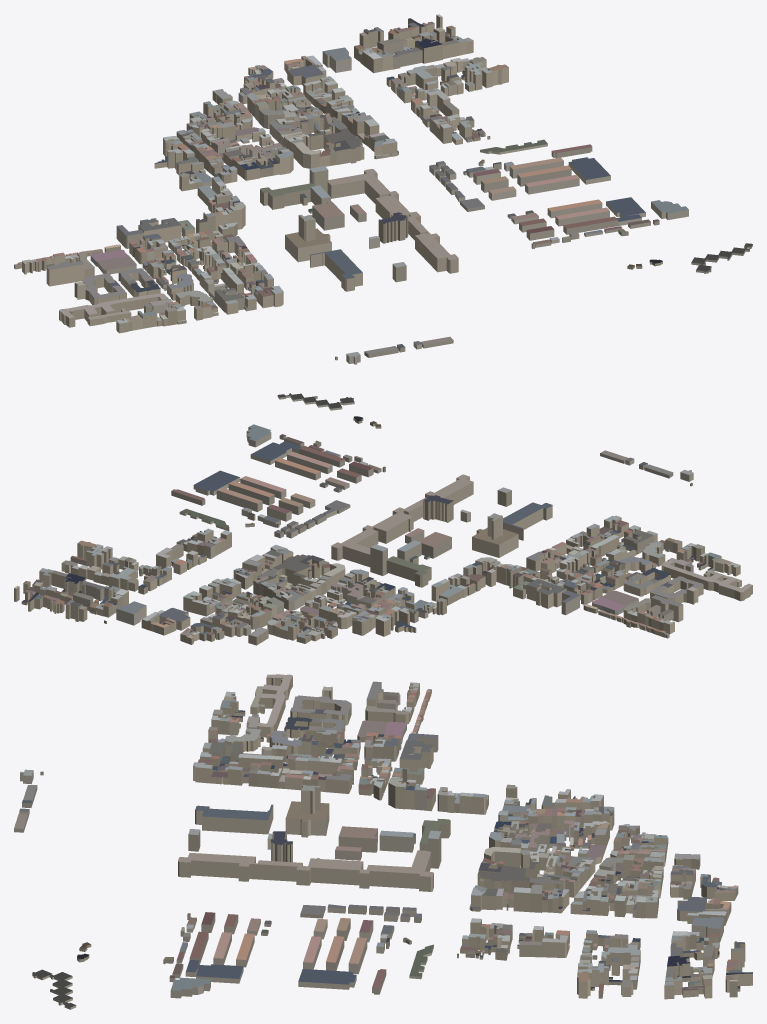
3 views of the same model, one above another, from view 1: azimuth 30°, elevation 25°; view 2: azimuth 150°, elevation 25°; view 3: azimuth 270°, elevation 25° (orthographic). The views are drawn at different scales.
Visible parts, largest first — view 1: tuile; view 2: tuile; view 3: tuile.
Part boxes in pixels (<box>): tuile: <box>14,14,752,364</box>; tuile: <box>14,393,752,645</box>; tuile: <box>14,674,752,1009</box>.
Bounding box in the file's own units: 1067 × 60.44 × 1022.
